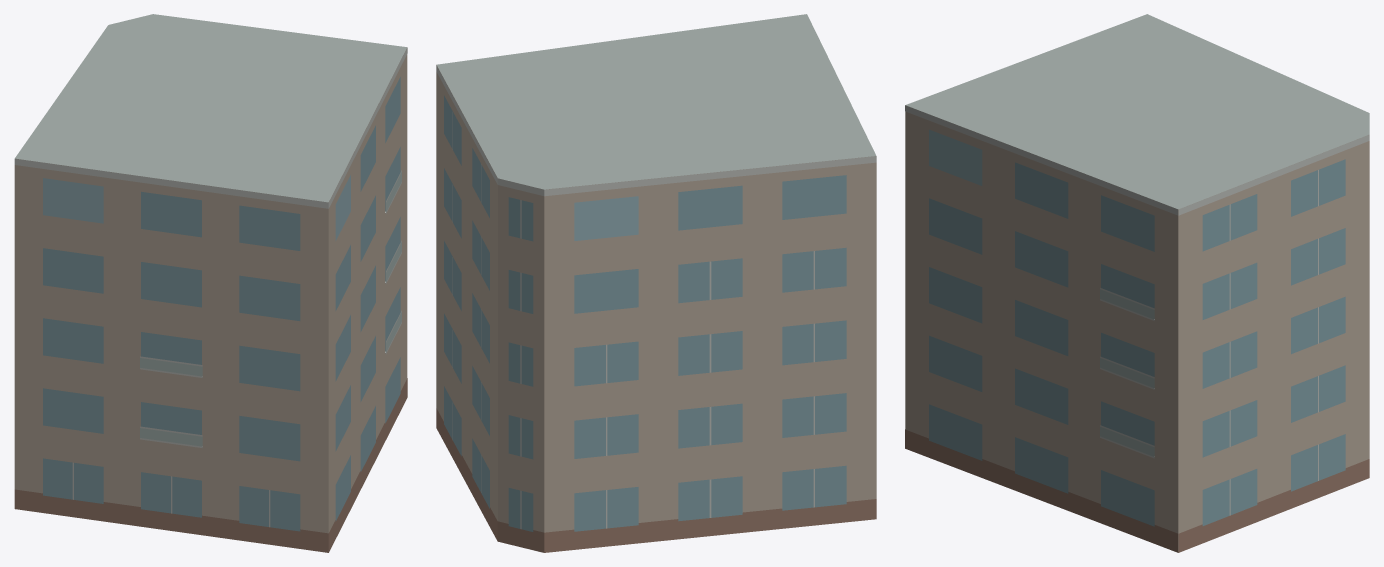
Rendered from survey-upis-32841566.glb.
3 views of the same model, side by side, from view 1: azimuth 30°, elevation 25°; view 2: azimuth 150°, elevation 25°; view 3: azimuth 270°, elevation 25° (orthographic). The views are drawn at different scales.
Visible parts, largest first — view 1: survey-upis-32841566.tmp; view 2: survey-upis-32841566.tmp; view 3: survey-upis-32841566.tmp.
Boxes of the visible parts, left/top/right/bottom form: survey-upis-32841566.tmp: left=14, top=14, right=407, bottom=552; survey-upis-32841566.tmp: left=436, top=14, right=876, bottom=552; survey-upis-32841566.tmp: left=905, top=14, right=1369, bottom=552.
Bounding box in the file's own units: 16.24 × 13.3 × 16.31.
